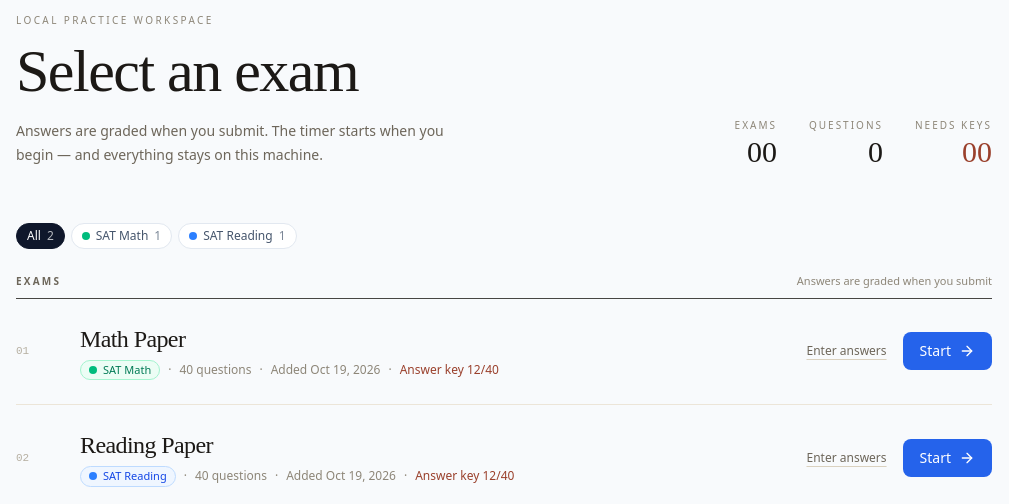
Scenario: ExamHomePage › filters exams by subject
Expected: the link "Math Paper" is shown, top-left (80, 326), bottom-right (185, 352)
Expected: the link "Reading Paper" is shown, top-left (80, 432), bottom-right (213, 458)
Click the button "SAT Math 1": (122, 236) top-left (71, 223), bottom-right (172, 249)
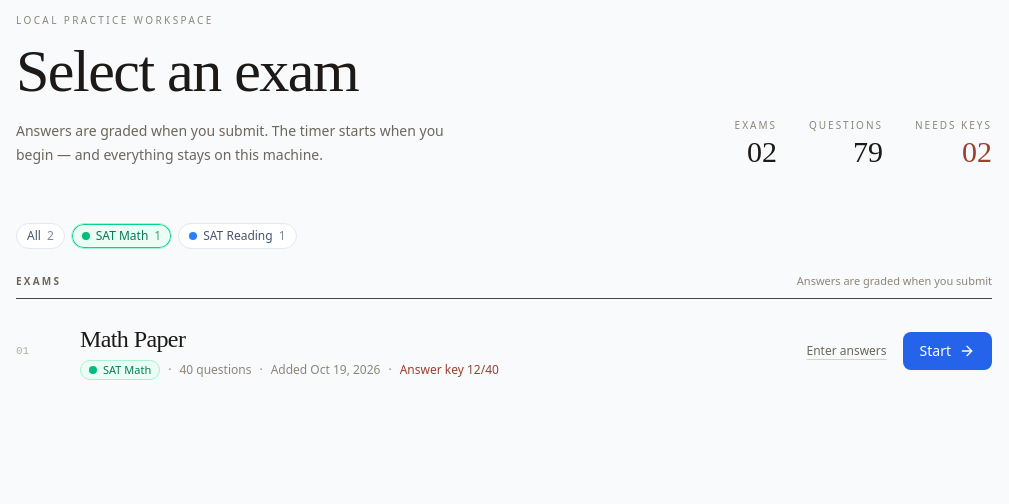
Expected: the link "Math Paper" is shown, top-left (80, 326), bottom-right (185, 352)
Now the link "Reading Paper" is gone
